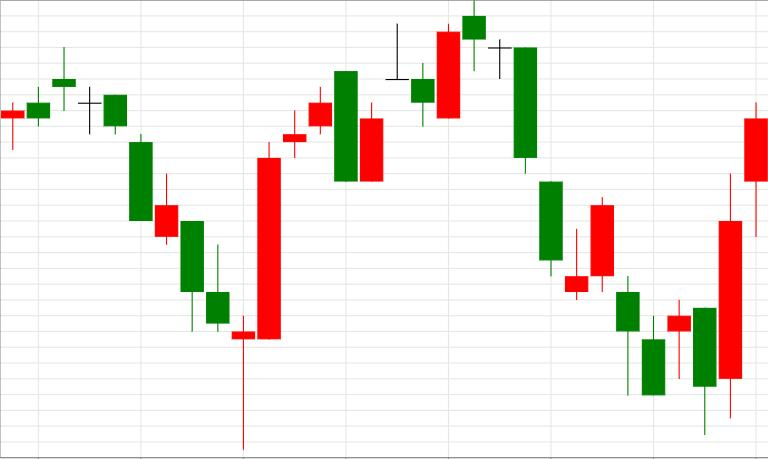bearish_engulfing_fall: (232, 71, 358, 448)
inverse_hammer_rise: (53, 46, 229, 331)
morning_star_rise: (462, 2, 613, 301)
